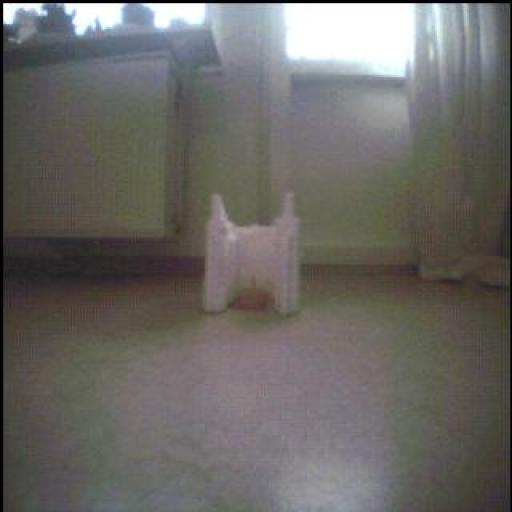Basket: (233, 289, 273, 311)
